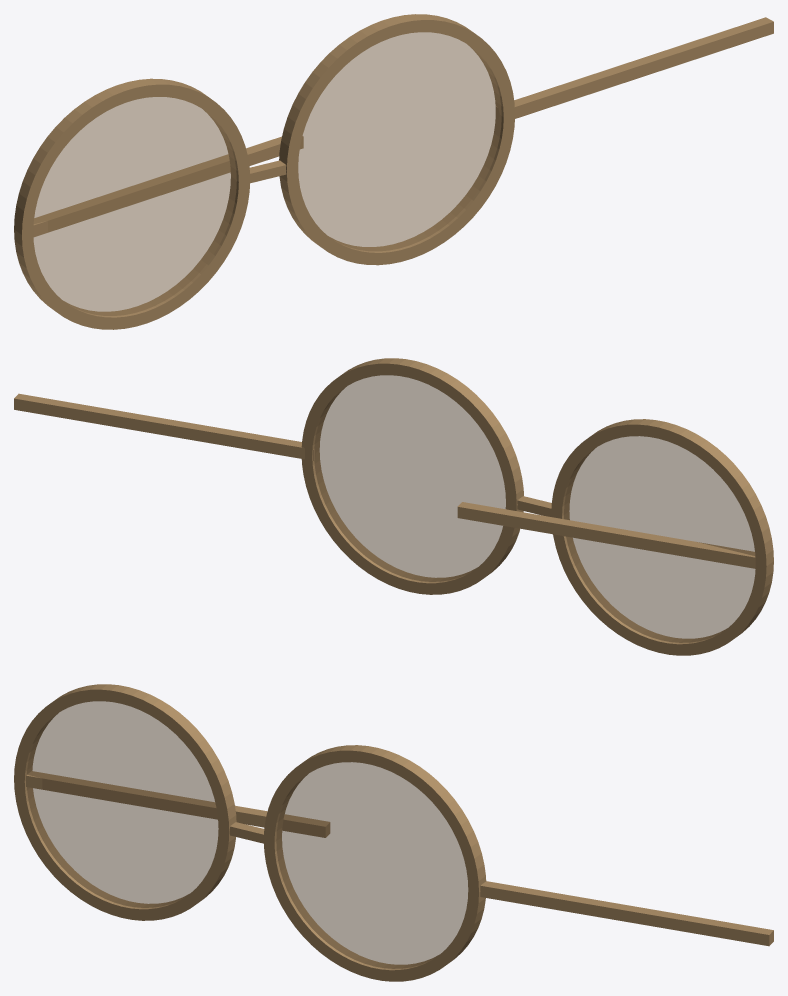
File: round-tortoise.glb
3 renders of one model, top to bottom at view 1: azimuth 30°, elevation 25°; view 2: azimuth 150°, elevation 25°; view 3: azimuth 330°, elevation 25°, orthographic. The views are drawn at different scales.
Parts seen in each view (by area): view 1: lens_glass_right, lens_glass_left, lens_frame_left, lens_frame_right, temple_right, temple_left, bridge; view 2: lens_glass_right, lens_glass_left, lens_frame_left, lens_frame_right, temple_left, temple_right, bridge; view 3: lens_glass_right, lens_glass_left, lens_frame_right, lens_frame_left, temple_right, temple_left.
Boxes of the visible parts, x1,y1,x2,y2 form: lens_glass_right: (298,32,501,251); lens_glass_left: (33,97,236,315); lens_frame_left: (14,78,250,329); lens_frame_right: (279,14,515,265); temple_right: (495,17,773,119); temple_left: (33,136,303,237); bridge: (249,160,286,183); lens_glass_right: (314,375,505,581); lens_glass_left: (564,436,755,642); lens_frame_left: (551,419,773,655); lens_frame_right: (301,358,523,594); temple_left: (457,502,755,568); temple_right: (14,393,315,460); bridge: (517,496,551,516); lens_glass_right: (276,762,468,968); lens_glass_left: (27,701,218,907); lens_frame_right: (263,745,486,981); lens_frame_left: (14,684,236,920); temple_right: (480,881,773,946); temple_left: (26,771,330,837).
Bounding box in the file's own units: 0.3401 × 0.1 × 0.0236.
